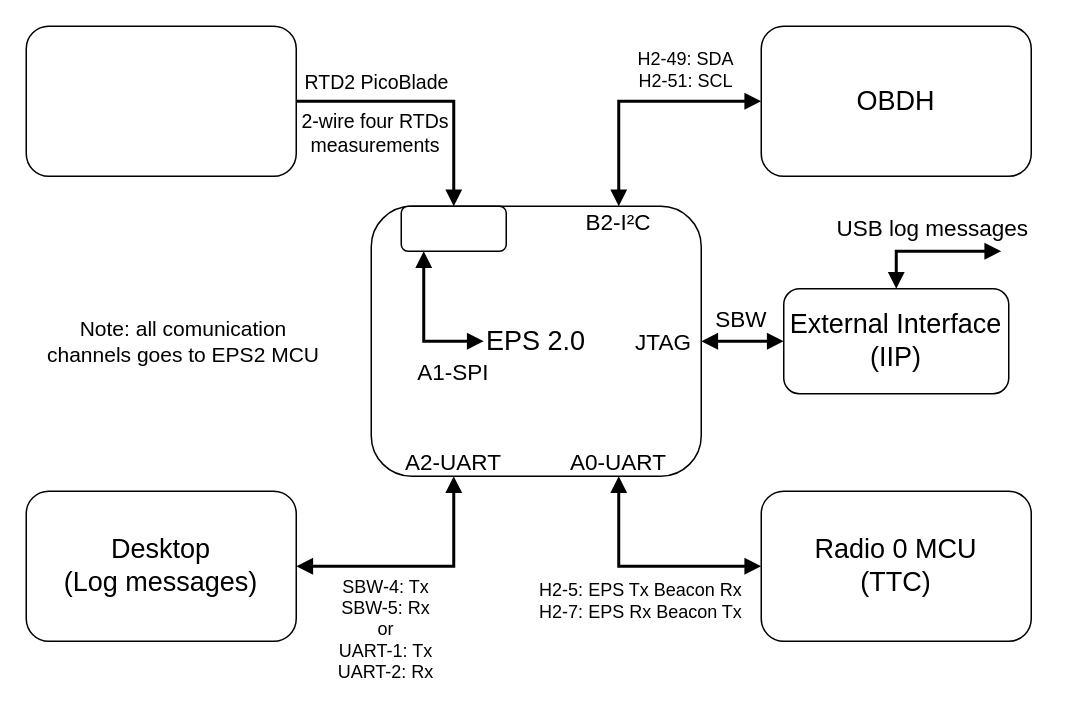
Image size: 1067x716. Some labels were removed from this diagram. The shapes that lost their labels are listed below. From the top down, each one's centre as x and y in pixels, then its label:
At [160,100]: "Battery Board 4C".
At [453,228]: "ADS1248".
